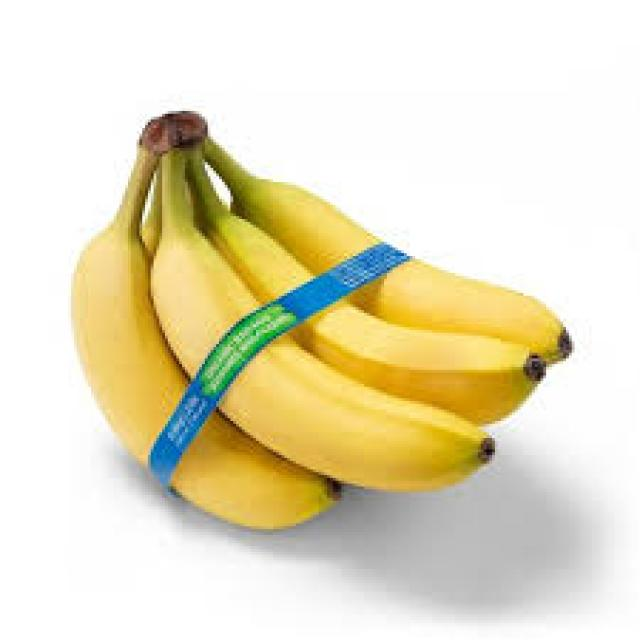banana: (68, 108, 572, 529)
